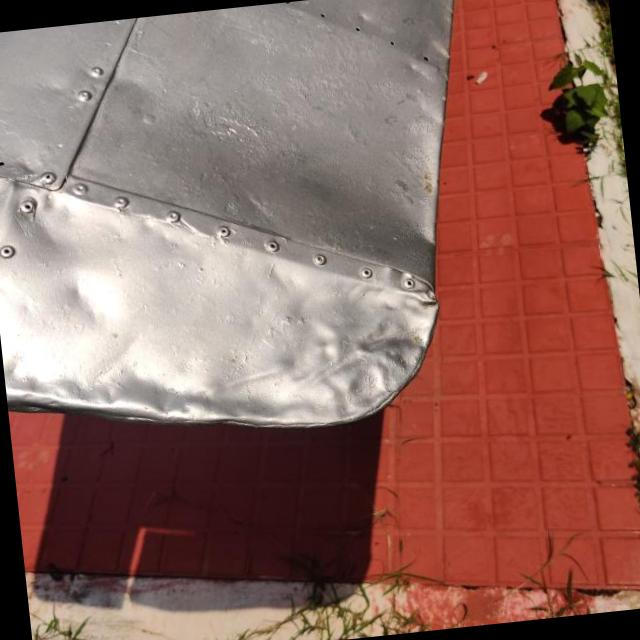Dent: (2, 322, 311, 428), (300, 288, 437, 425), (57, 252, 138, 345), (0, 179, 78, 270)
